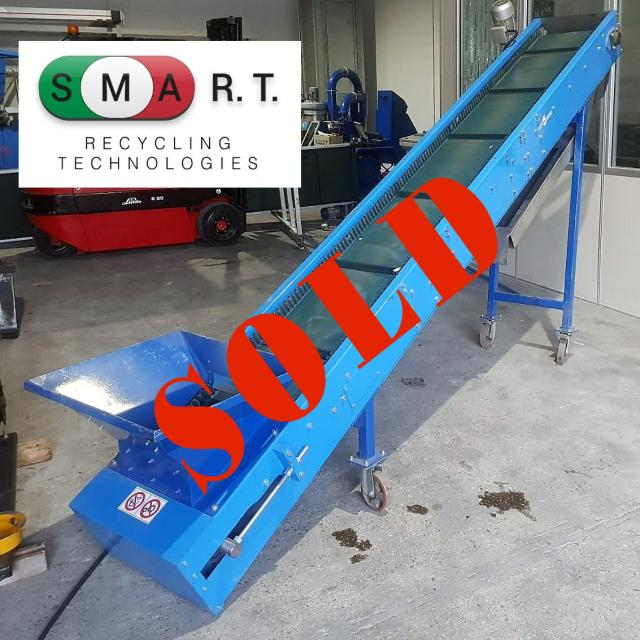conveyor: (24, 18, 622, 628)
